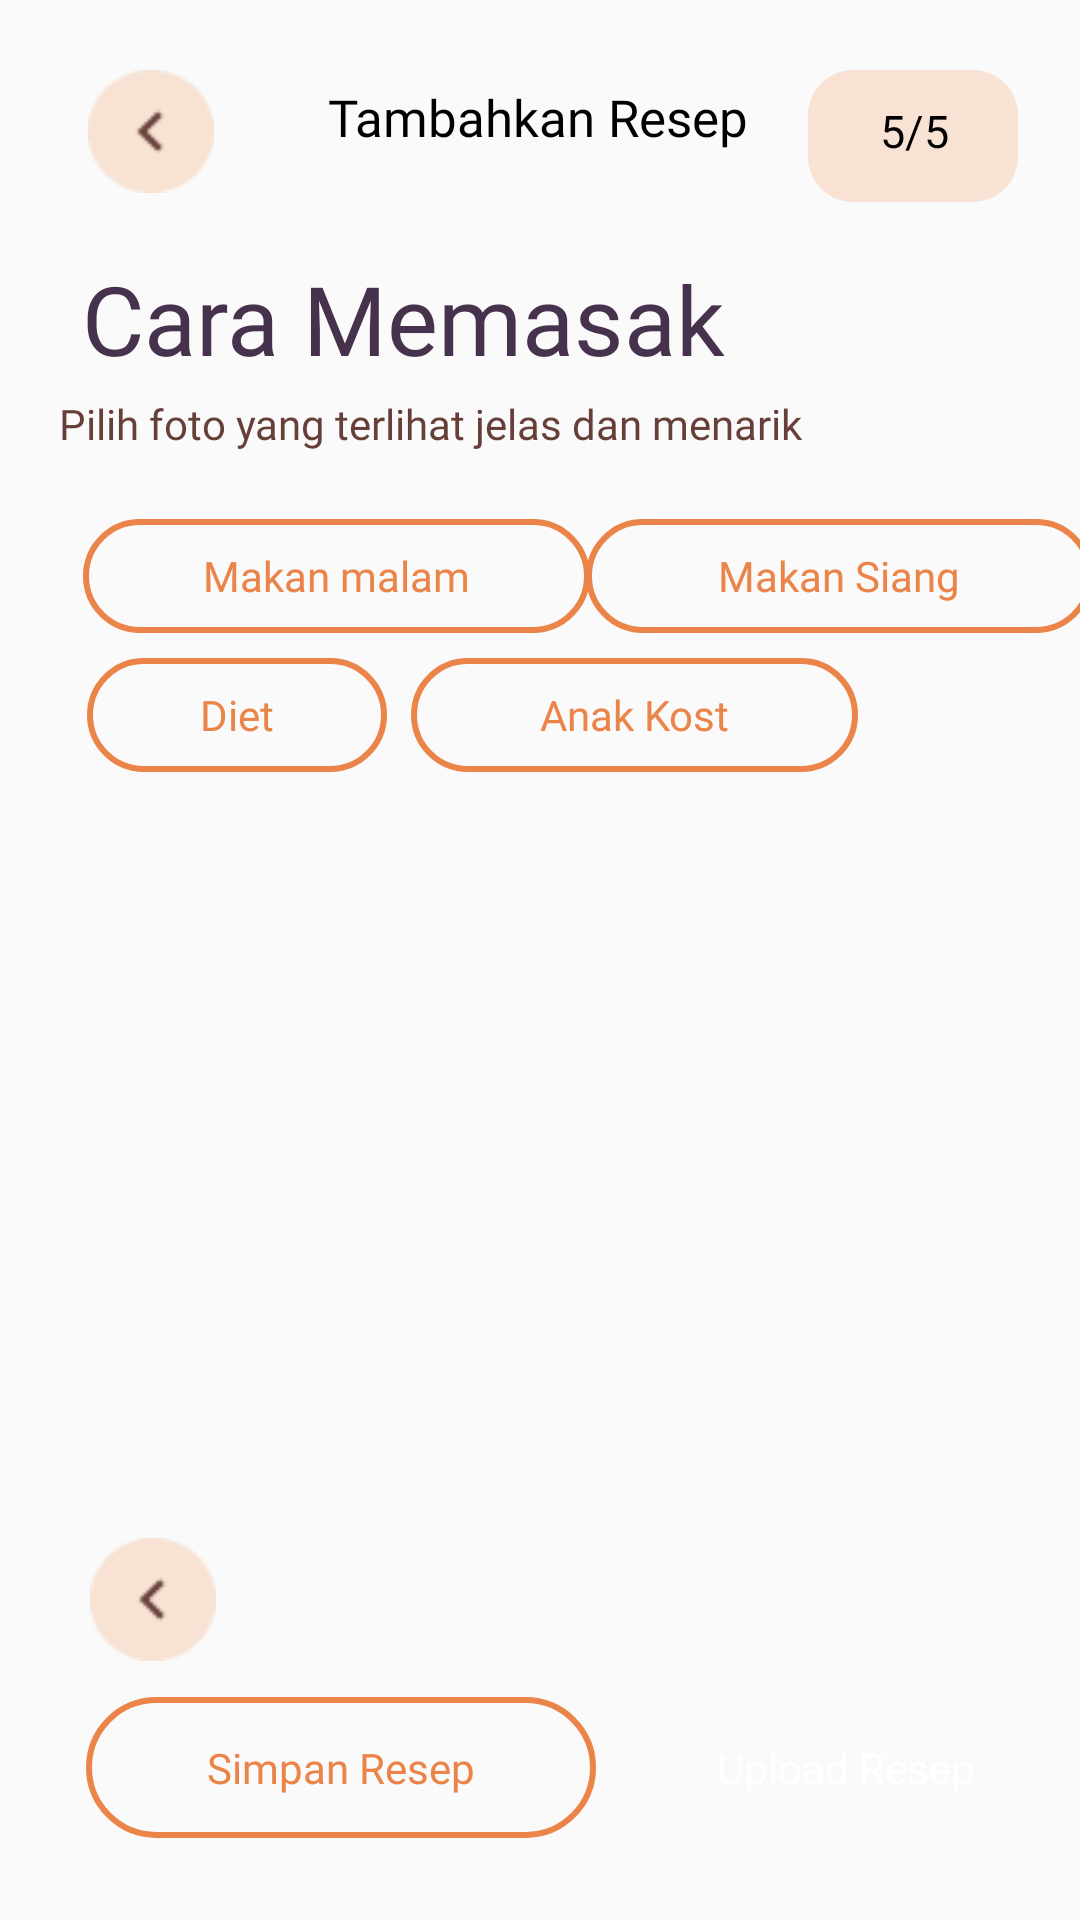

Screen size 1080×1920. Icon name, then its center in pixels as point (x, y):
back: point (151, 131), point (153, 1599)
